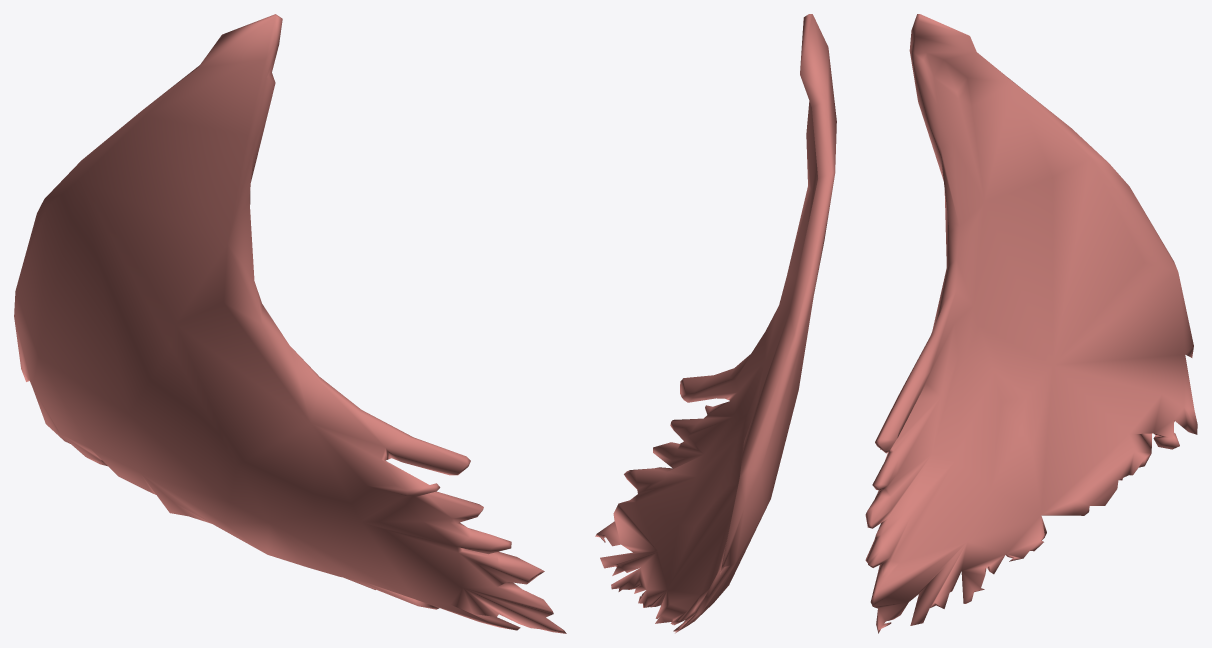
3 renders of one model, left to right at view 1: azimuth 30°, elevation 25°; view 2: azimuth 150°, elevation 25°; view 3: azimuth 270°, elevation 25°, orthographic. The views are drawn at different scales.
Visible parts, largest first — view 1: ZA_f5764a0b5a6592c4; view 2: ZA_f5764a0b5a6592c4; view 3: ZA_f5764a0b5a6592c4.
Part boxes in pixels (left/top/right/bottom): ZA_f5764a0b5a6592c4: left=14, top=14, right=566, bottom=633; ZA_f5764a0b5a6592c4: left=595, top=14, right=836, bottom=633; ZA_f5764a0b5a6592c4: left=865, top=14, right=1197, bottom=633.
Size of the model in its own units: 0.0243 by 0.0417 by 0.024.
